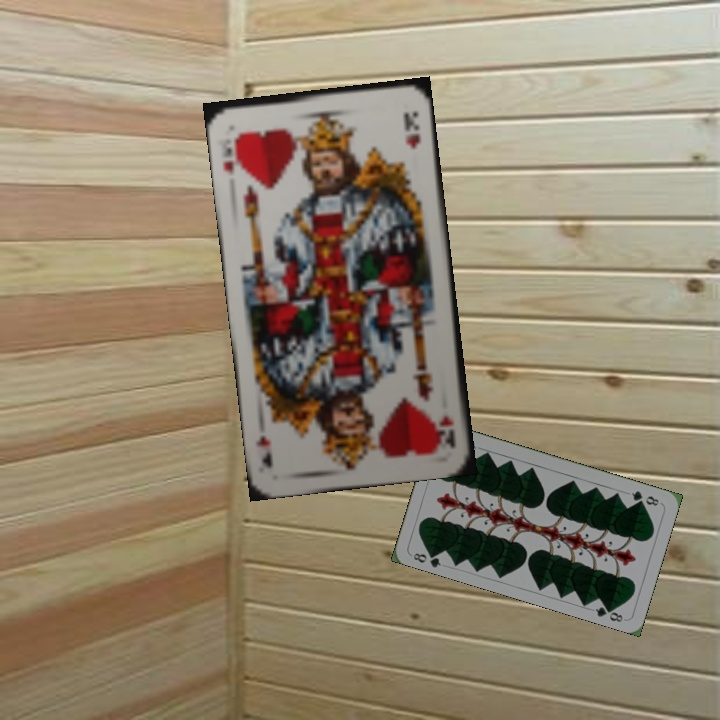G8: (409, 546, 443, 570), (627, 487, 662, 508)
HK: (218, 128, 245, 178), (435, 412, 458, 450)
